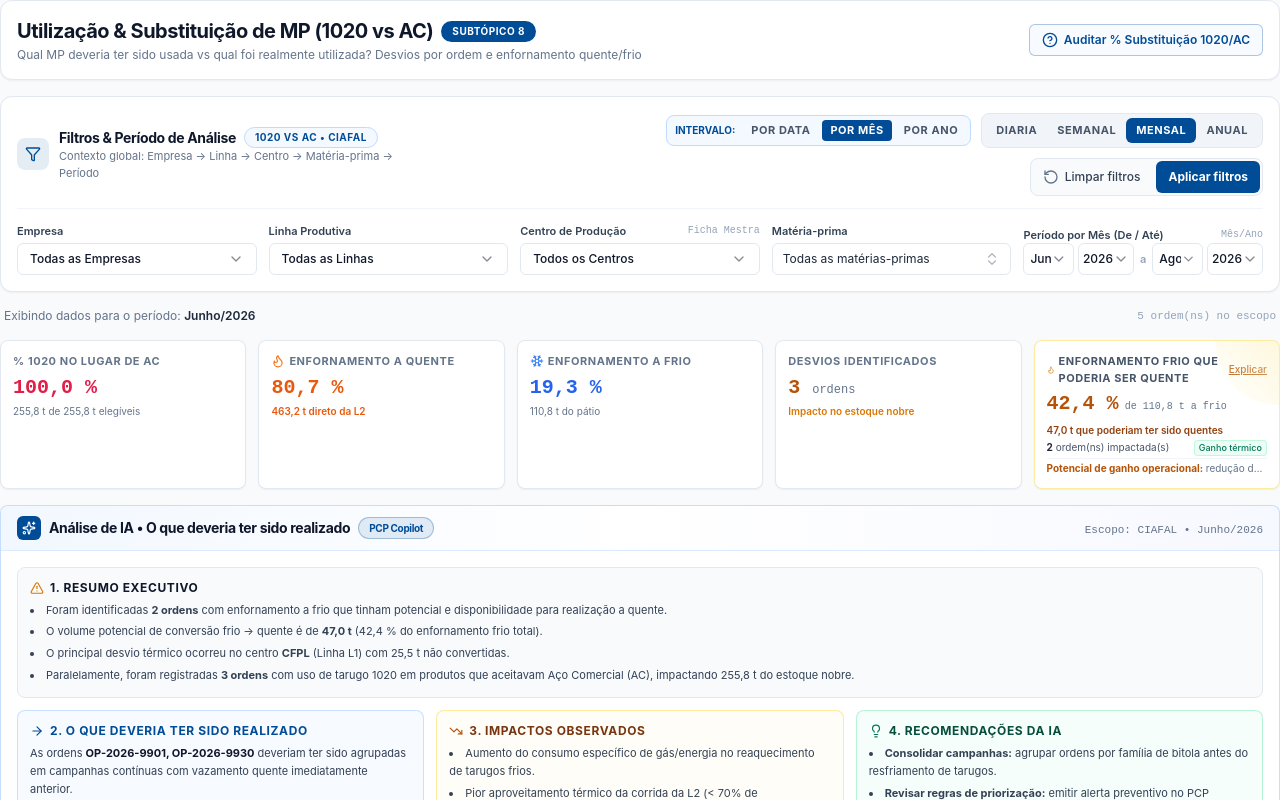
Scenario: Suíte de Aceitação: Evolução Utilização e Substituição de MP - Potencial Térmico e IA › Cenário 5: troca dinâmica do modo de período (Data -> Mês -> Ano) alternando inputs e persistindo filtros
Note: Alterna para Data
Click the button with test id "period-mode-data" at [781, 130], box 743,120 -> 818,140
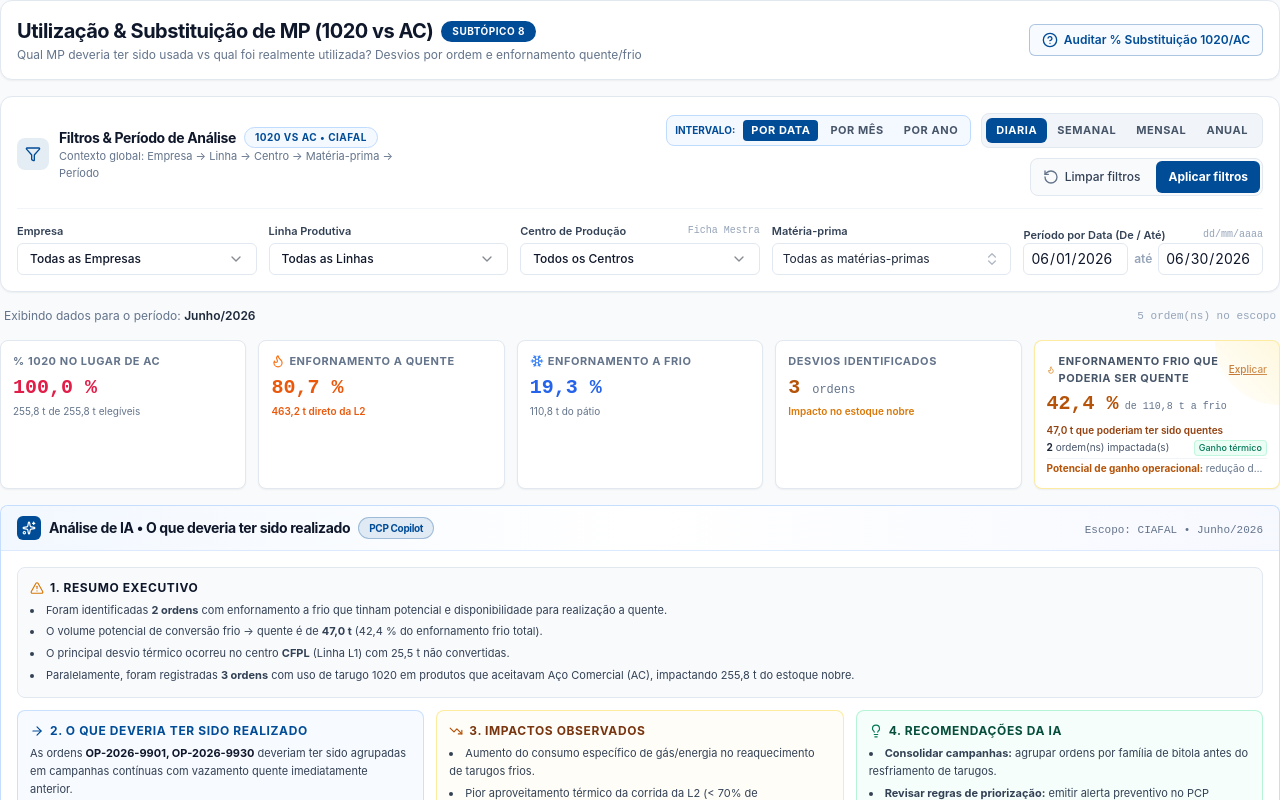
expect the date field with test id "filter-period-date-from" is shown: met, box 1023,243 -> 1128,275
expect the date field with test id "filter-period-date-to" is shown: met, box 1158,243 -> 1263,275
Note: Alterna para Mês
Click the button with test id "period-mode-mes" at [857, 130], box 822,120 -> 892,140
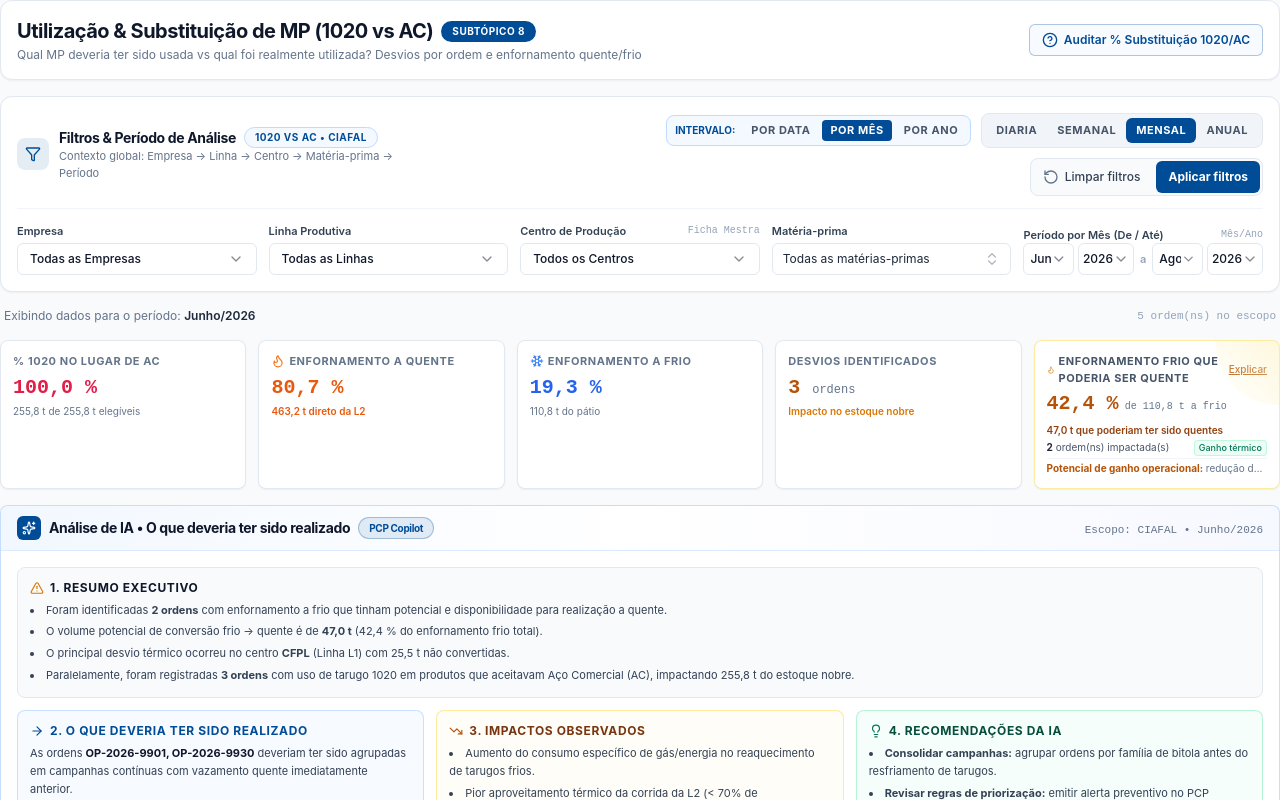
expect the dropdown with test id "filter-period-month-from-select" is shown: met, box 1023,243 -> 1074,275
expect the dropdown with test id "filter-period-month-to-select" is shown: met, box 1152,243 -> 1203,275
Note: Alterna para Ano
Click the button with test id "period-mode-ano" at [931, 130], box 896,120 -> 966,140
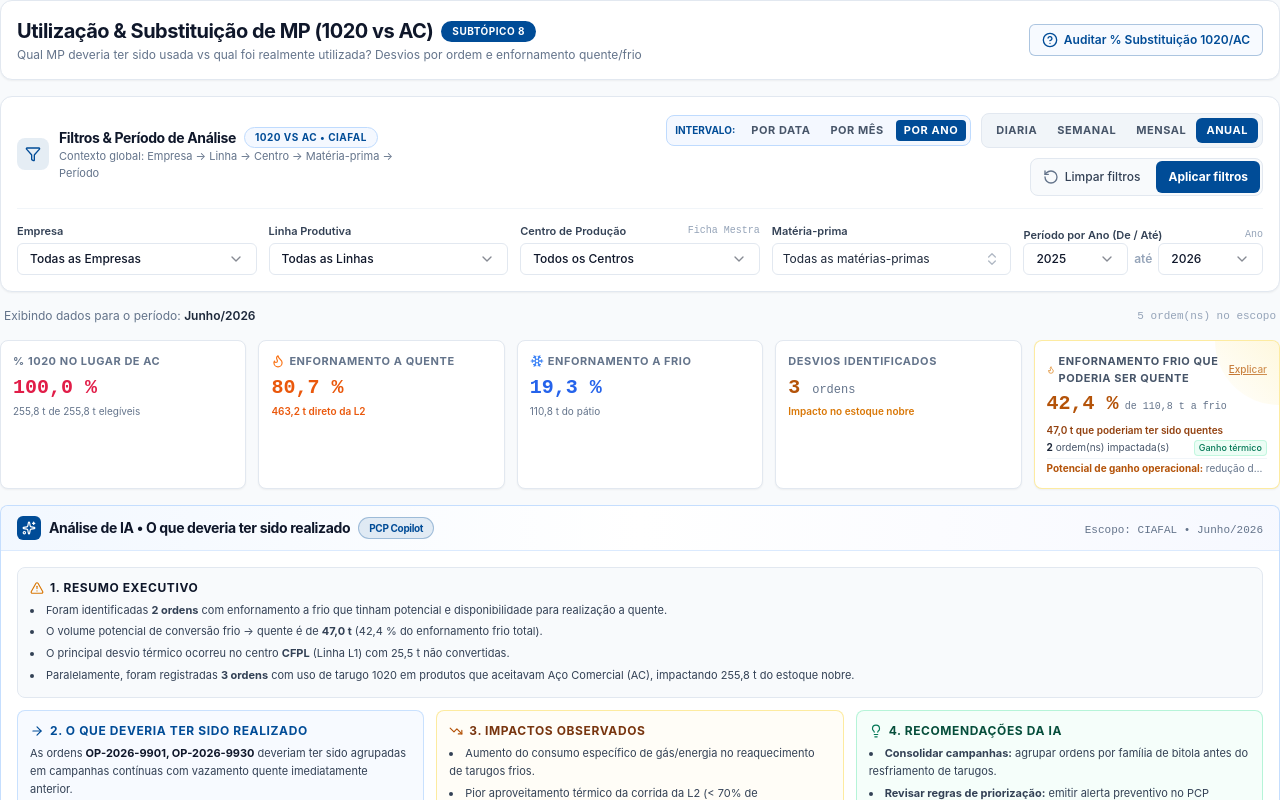
expect the dropdown with test id "filter-period-ano-to-select" is shown: met, box 1158,243 -> 1263,275
expect the dropdown with test id "filter-period-ano-from-select" is shown: met, box 1023,243 -> 1128,275
